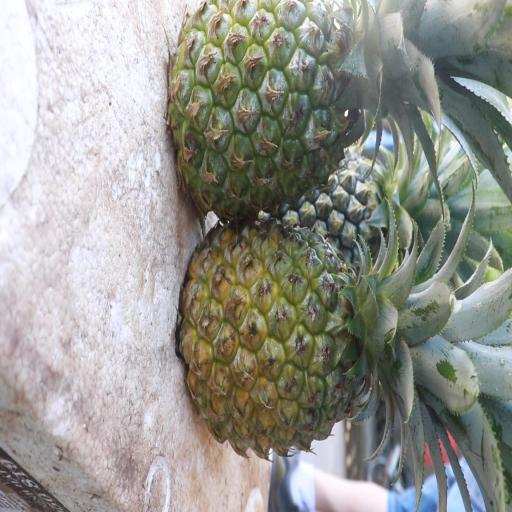------------------------------: (173, 0, 403, 219)
Pineapple - v8 v1: (182, 223, 418, 461)
